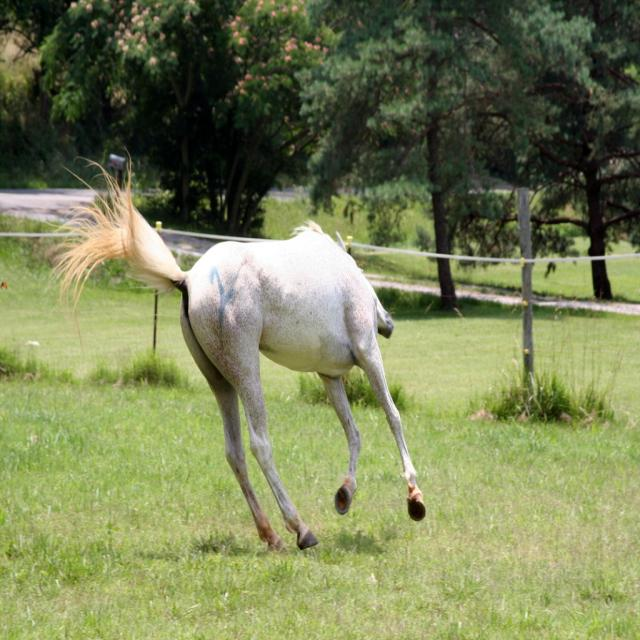Horse: (54, 144, 426, 552)
